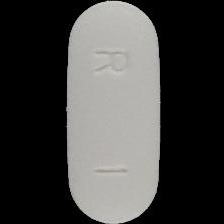61786-706: (0, 0, 224, 224)
